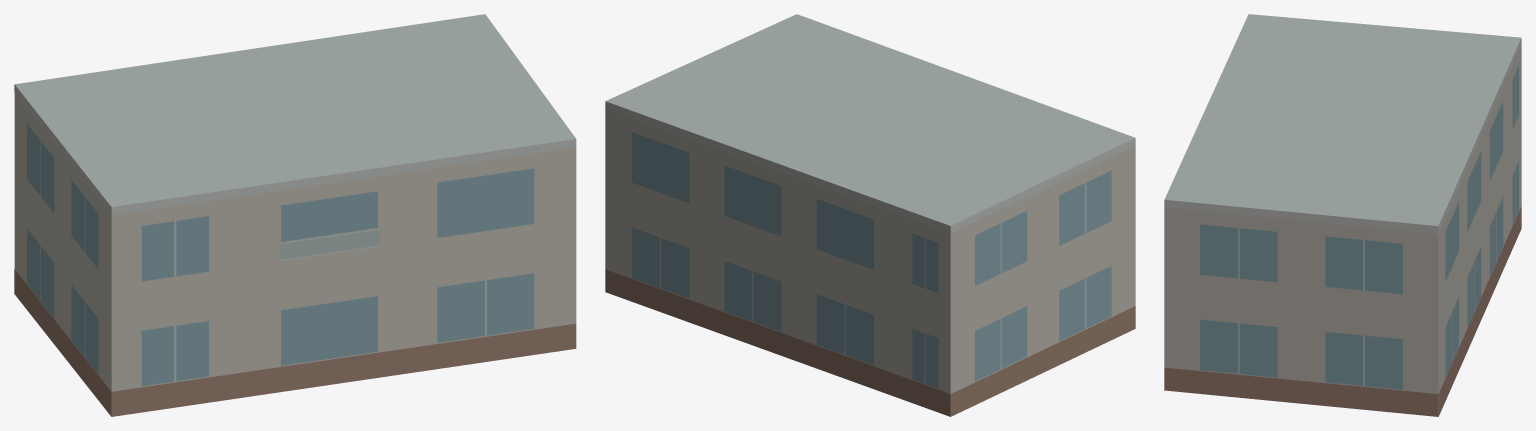
The model's file is survey-upis-32702669.glb.
3 renders of one model, left to right at view 1: azimuth 30°, elevation 25°; view 2: azimuth 150°, elevation 25°; view 3: azimuth 270°, elevation 25°, orthographic. The views are drawn at different scales.
Visible parts, largest first — view 1: survey-upis-32702669.tmp; view 2: survey-upis-32702669.tmp; view 3: survey-upis-32702669.tmp.
Boxes of the visible parts, bbox=[...] form: survey-upis-32702669.tmp: bbox=[14, 14, 576, 416]; survey-upis-32702669.tmp: bbox=[605, 14, 1135, 416]; survey-upis-32702669.tmp: bbox=[1164, 14, 1521, 416].
Size of the model in its own units: 14.57 by 6.1 by 10.37.
